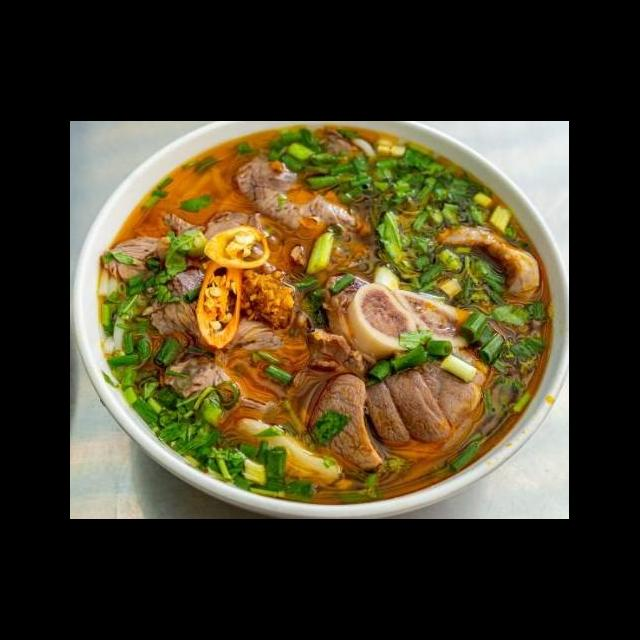bun: (94, 267, 142, 358)
bun bo: (91, 151, 570, 516)
thit bo: (291, 324, 388, 476), (228, 150, 364, 235), (157, 205, 280, 268), (418, 342, 493, 432), (381, 361, 456, 445), (143, 268, 214, 341), (361, 375, 414, 450), (98, 234, 168, 285)
